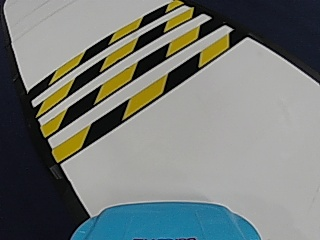bump: (37, 16, 201, 132)
